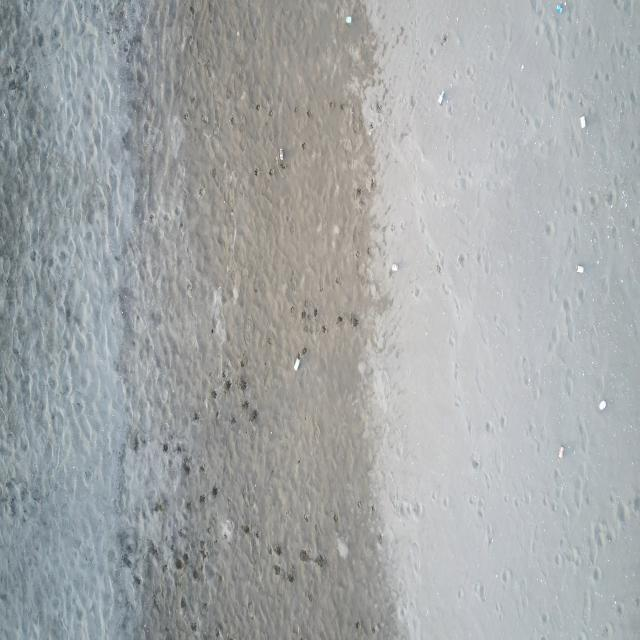tin-and-aluminum-cans: (437, 89, 446, 105), (579, 114, 586, 129), (598, 398, 606, 411), (391, 262, 399, 274), (558, 444, 564, 460), (575, 267, 585, 276), (294, 357, 300, 372), (345, 14, 352, 25), (556, 3, 563, 14), (280, 147, 284, 161)
